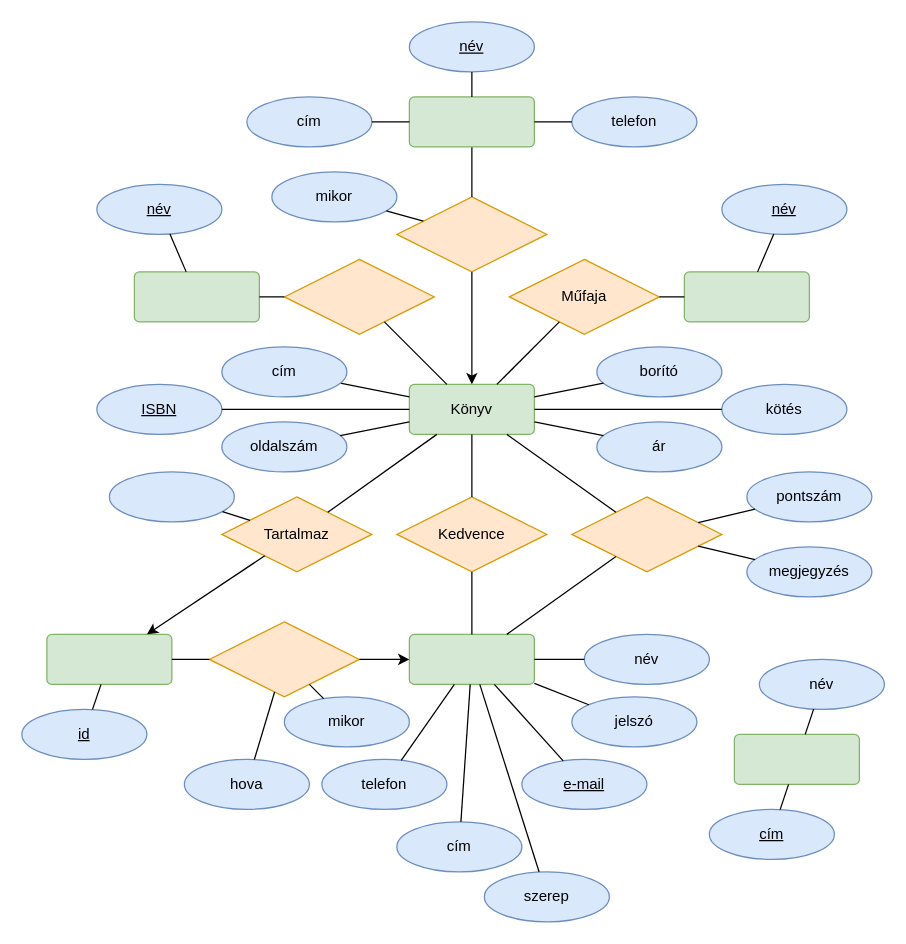
Some shapes in this 906 by 944 pixel diagram are drawn without their labels. Here are the shapes that lost their labels. From the top down, the centre of each, then its label:
the point at 471,121: Kiadó
the point at 471,234: Kiadta
the point at 196,296: Szerző
the point at 358,296: Szerzője
the point at 746,296: Műfaj
the point at 171,496: darabszám
the point at 646,534: Értékelés
the point at 109,658: Kosár
the point at 283,659: Megrendel
the point at 471,658: Felhasználó
the point at 796,758: Üzlet
